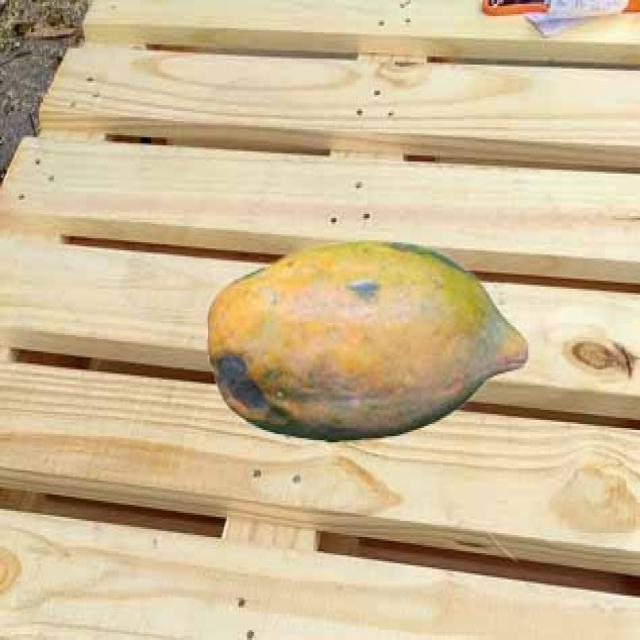Pepaya rippen: (215, 232, 528, 440)
